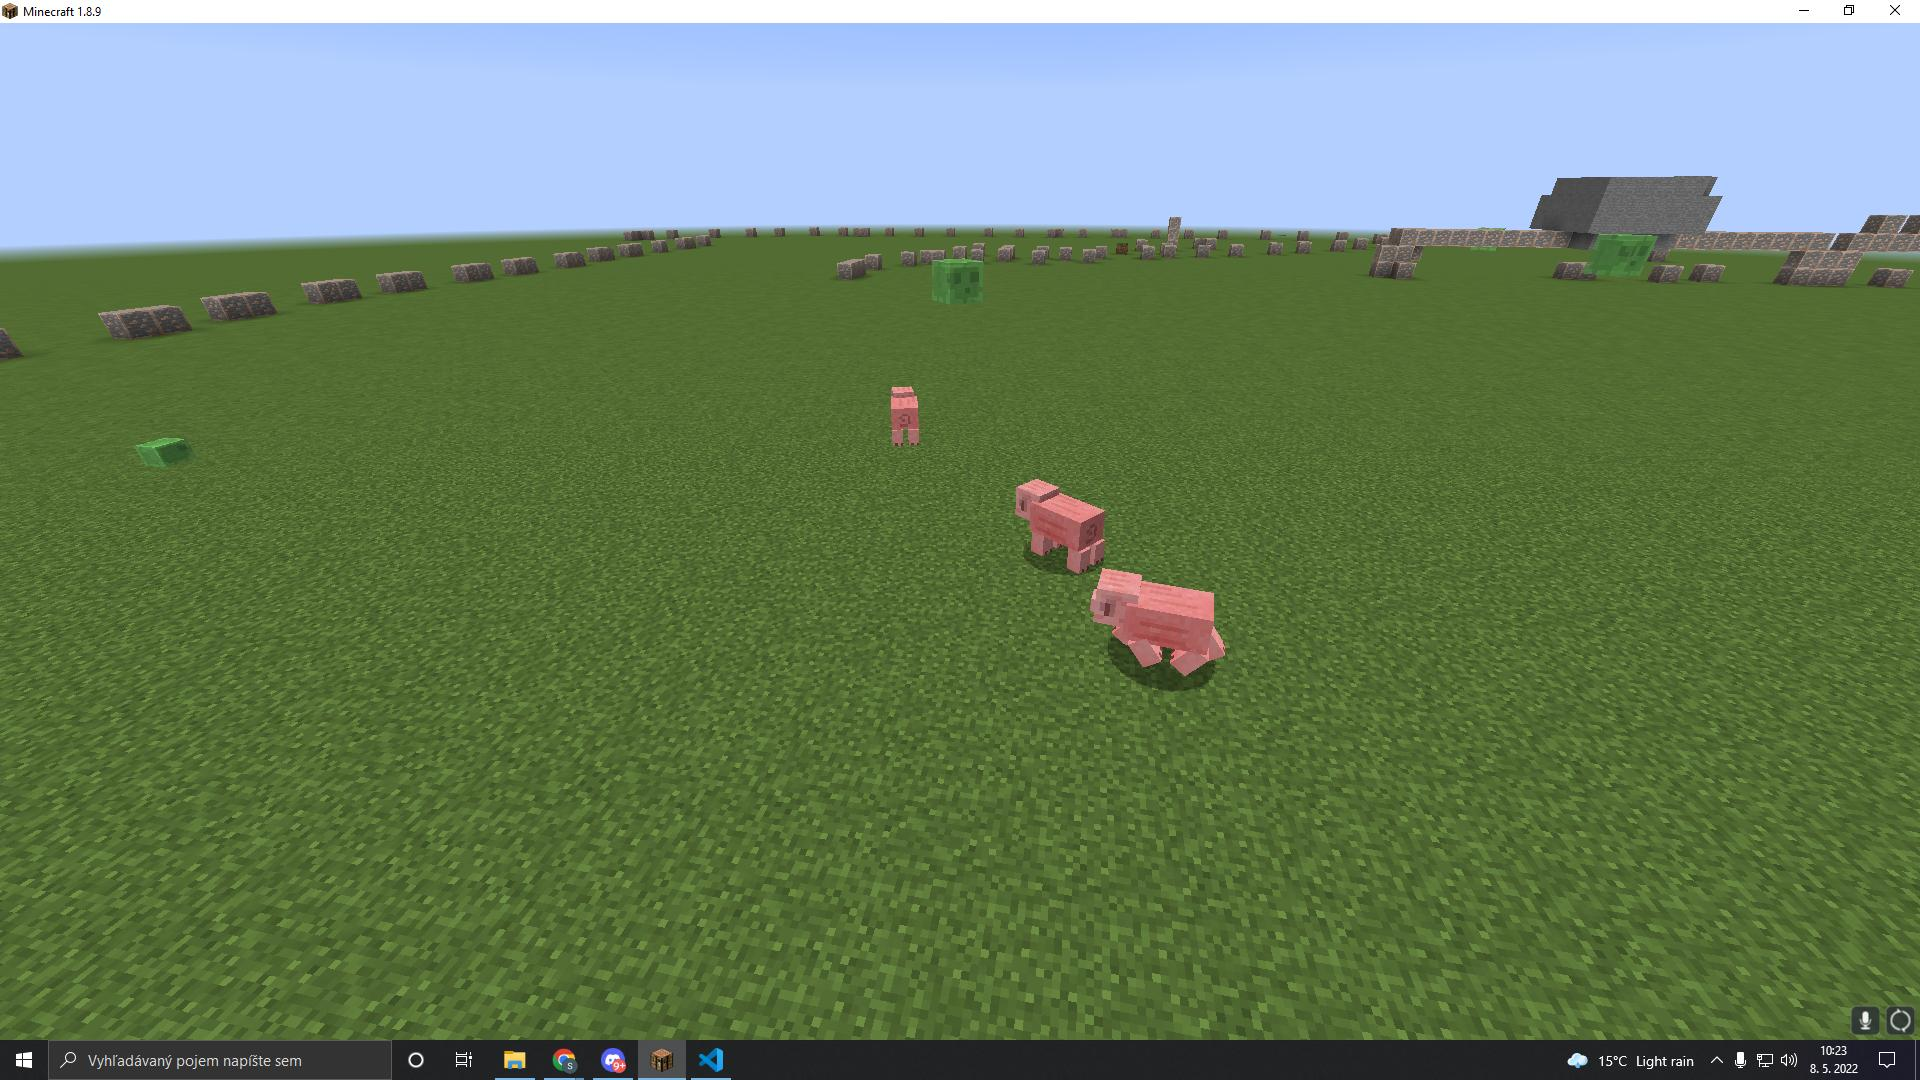pig: (1085, 563, 1255, 688), (1000, 467, 1112, 570), (877, 377, 930, 459)
